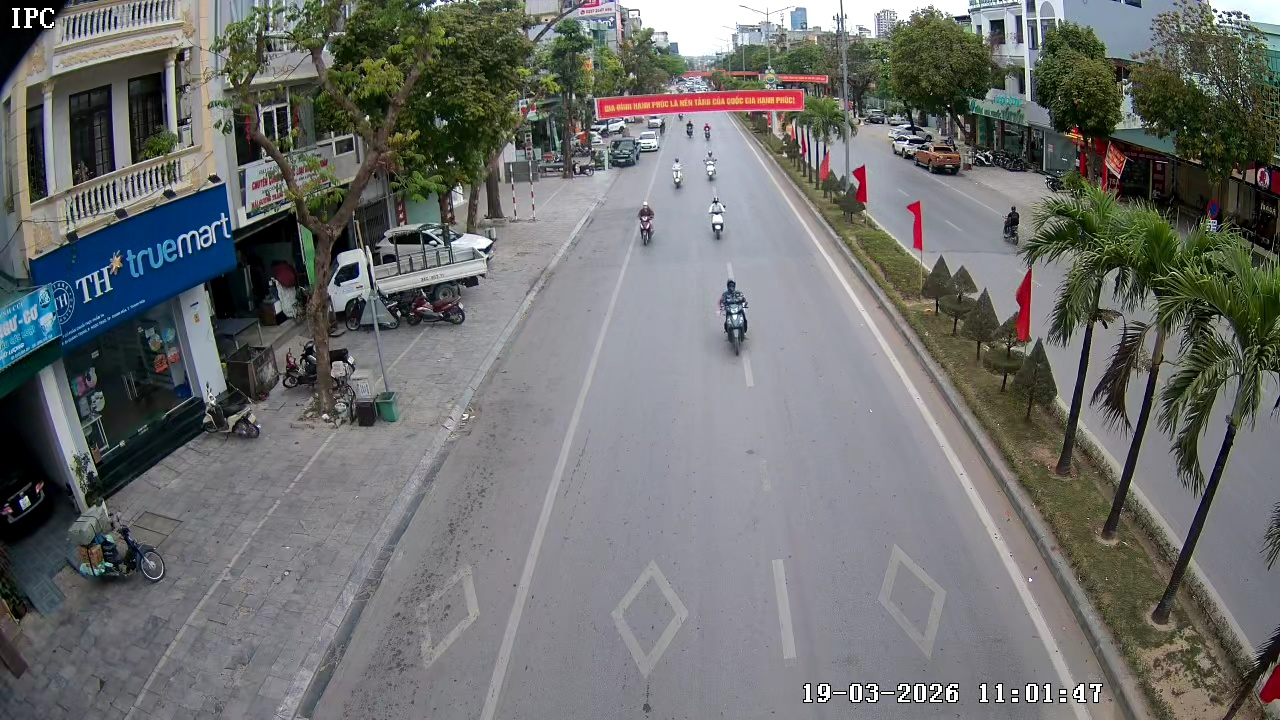motorbike: (69, 502, 168, 586), (715, 277, 752, 356), (707, 193, 729, 242), (635, 199, 657, 247), (670, 155, 685, 192), (702, 149, 717, 183), (701, 120, 713, 143), (683, 122, 696, 138)
truck: (605, 133, 650, 166)
